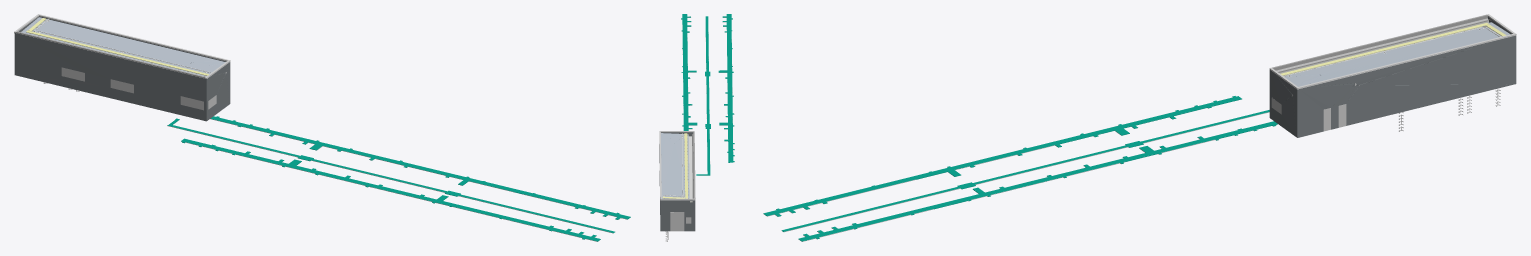
Rendered from pt-106-maquina-lavado-0001-v00.glb.
3 views of the same model, side by side, from view 1: azimuth 30°, elevation 25°; view 2: azimuth 150°, elevation 25°; view 3: azimuth 270°, elevation 25° (orthographic). The views are drawn at different scales.
Bounding box in the file's own units: 38.17 × 7.27 × 68.44.
